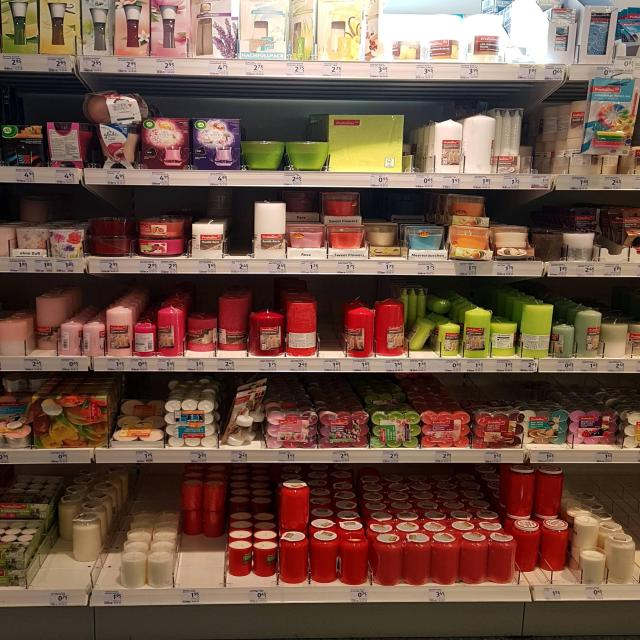empty: (318, 299, 344, 357), (229, 204, 253, 257), (99, 544, 120, 587)
